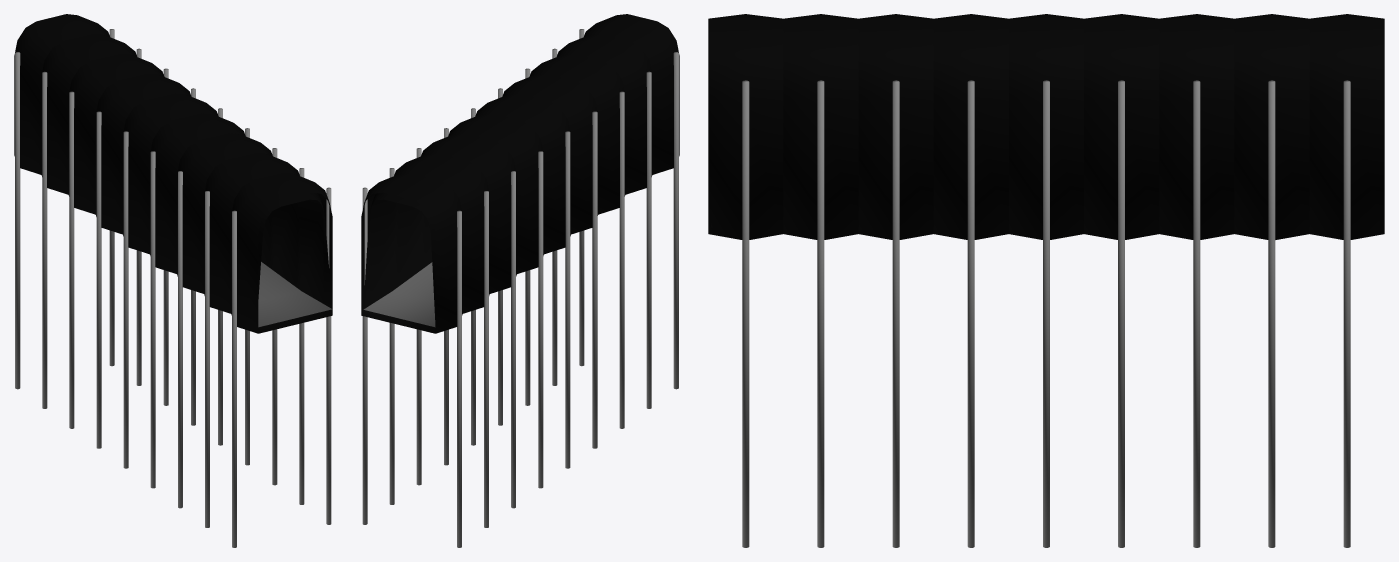
Rendered from tube-to-building.fbx.
3 views of the same model, side by side, from view 1: azimuth 30°, elevation 25°; view 2: azimuth 150°, elevation 25°; view 3: azimuth 270°, elevation 25° (orthographic). The views are drawn at different scales.
Parts seen in each view (by area): view 1: Cube.002; view 2: Cube.002; view 3: Cube.002.
Boxes of the visible parts, bbox=[...] form: Cube.002: bbox=[14, 14, 332, 547]; Cube.002: bbox=[361, 14, 679, 547]; Cube.002: bbox=[708, 14, 1384, 547].
Bounding box in the file's own units: 103 × 347 × 440.
